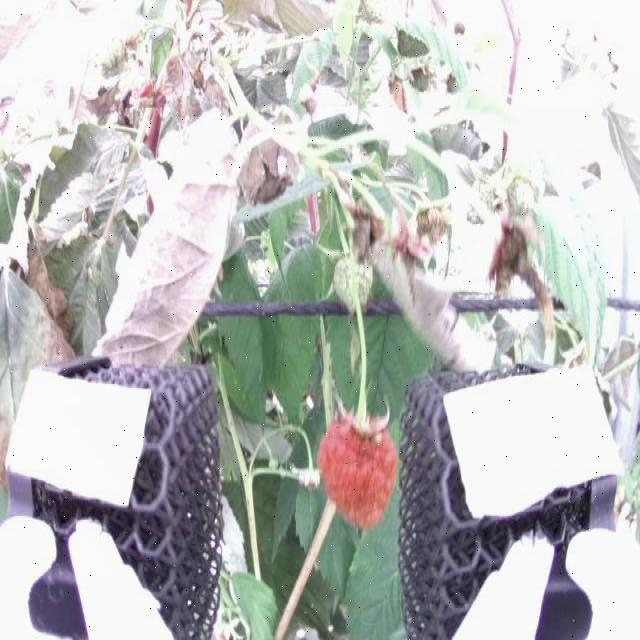Riped berries: (315, 406, 399, 530)
